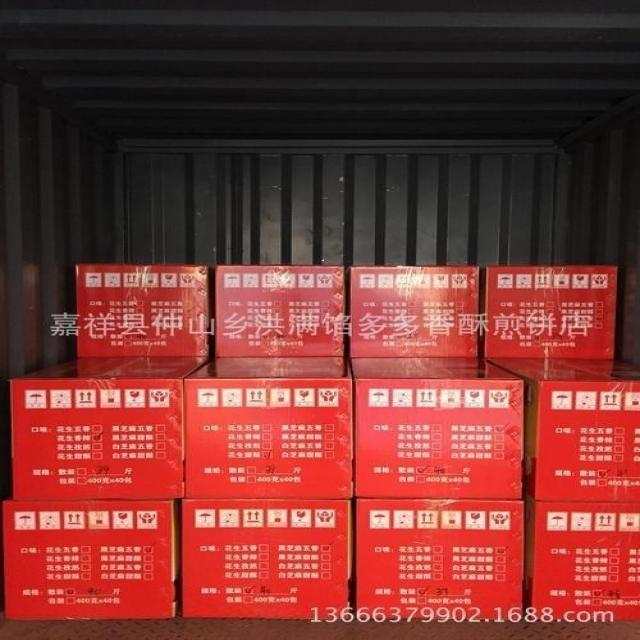box: (10, 356, 207, 498), (343, 352, 524, 500), (178, 356, 361, 499), (179, 500, 365, 620), (0, 497, 178, 621), (494, 351, 640, 499), (362, 496, 533, 620), (211, 260, 355, 364), (480, 258, 620, 364), (524, 498, 640, 619), (346, 263, 489, 356), (72, 259, 208, 356)
